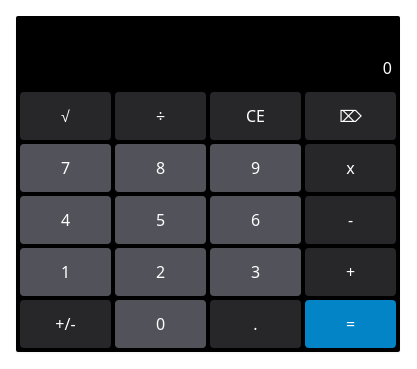
App › division with proper data
This screenshot has width=417, height=369.
Simulate dividing numbers and verifying the result
Click the button "5": point(160, 220) x1=115 y1=196 x2=206 y2=244
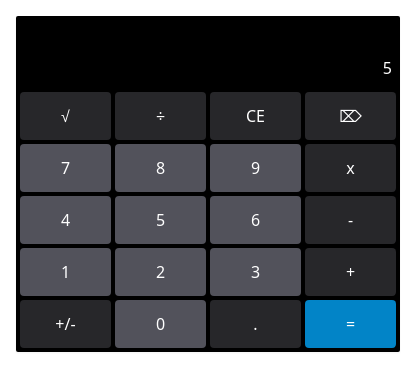
Click the button "0": point(160, 324) x1=115 y1=300 x2=206 y2=348
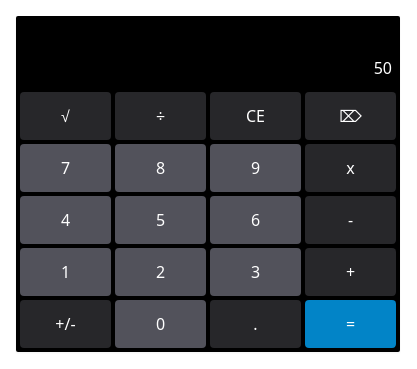
Click the button "÷": point(160, 116) x1=115 y1=92 x2=206 y2=140
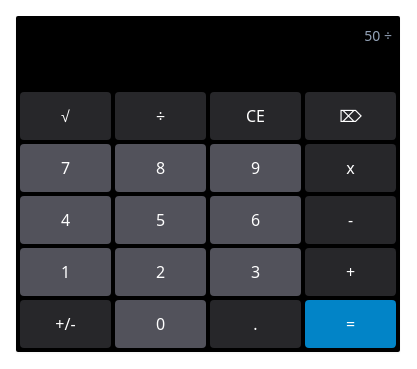
Click the button "5": point(160, 220) x1=115 y1=196 x2=206 y2=244
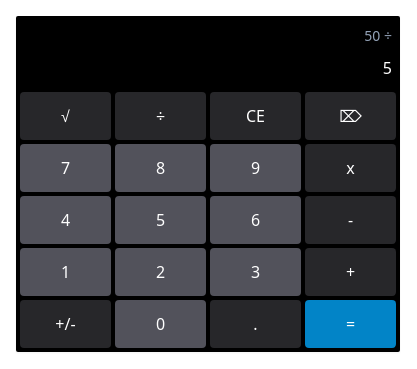
Click the button "=": point(350, 324) x1=305 y1=300 x2=396 y2=348
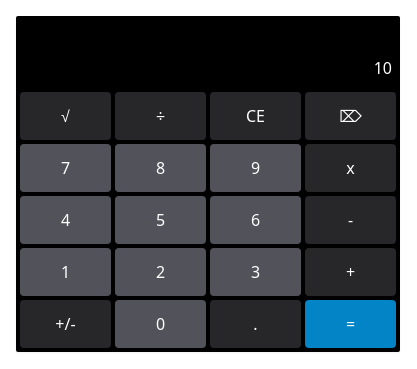
Expected: the text with test id "calculation" reads "10", x1=374 y1=57 x2=392 y2=79
